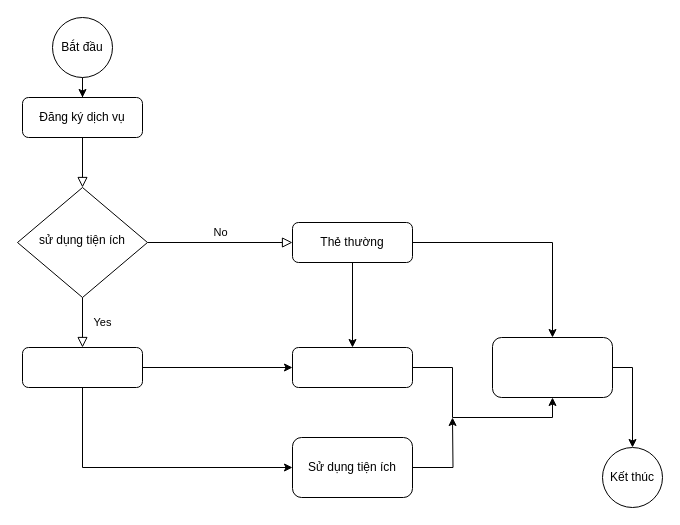
Image size: 680x525. Some labels were removed from this diagram. The shapes that lost their labels are listed below. From the top down, each one's centre as x and y in pixels, then its label:
pixel 82 367: Thẻ vip
pixel 352 367: Đến phòng sử dụng phòng
pixel 552 367: Trả phòng
